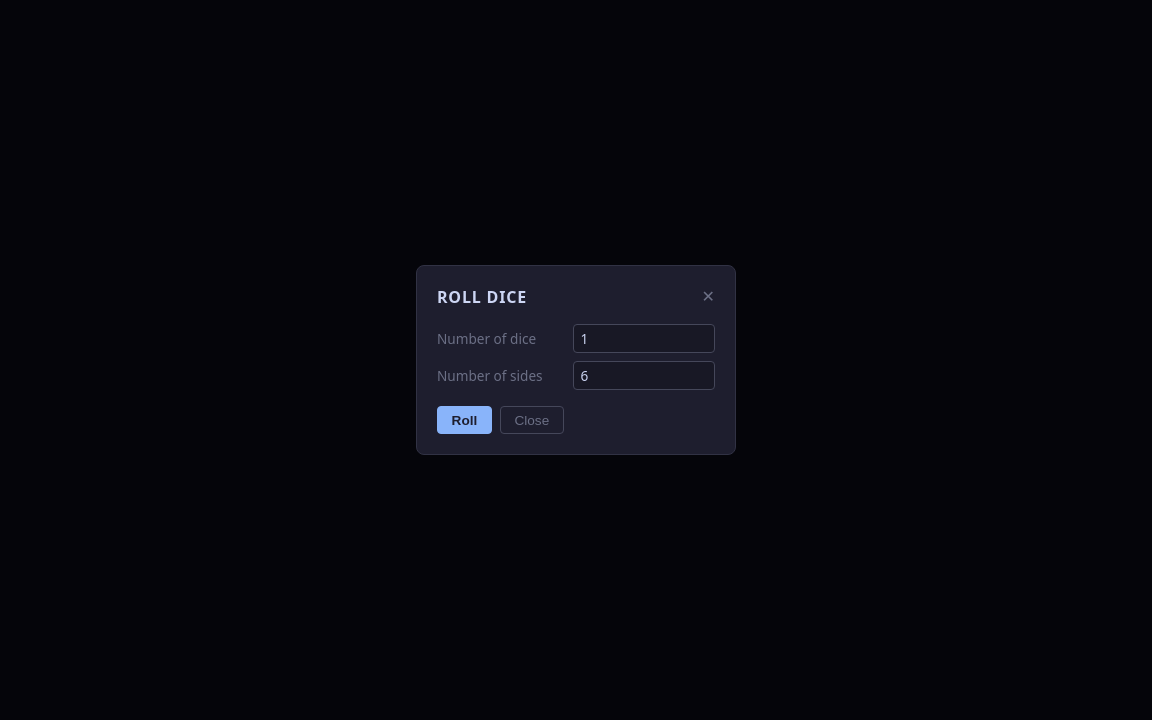
Test: DiceModal › rolls and tallies faces (deterministic via stubbed Math.random)
The image size is (1152, 720).
Replace the text in the number field next to "Number of dice" with "3" at (644, 338), box [573,324,715,353]
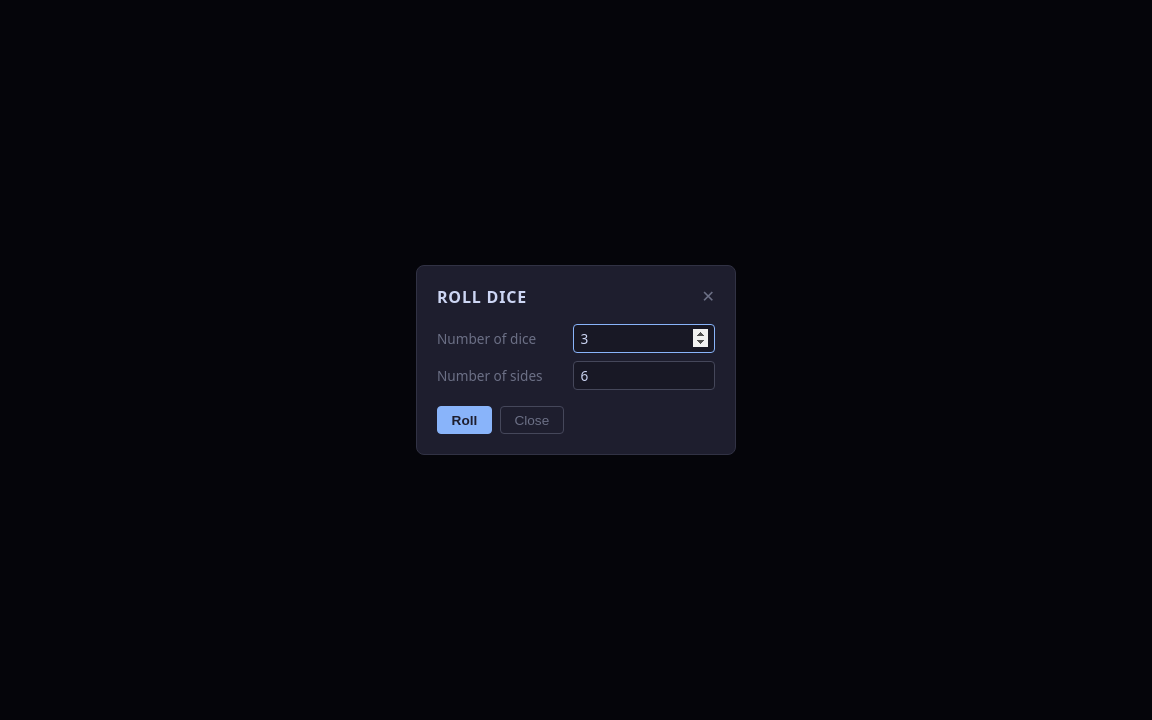
Click the button "Roll" at (464, 420), box [437,406,492,434]
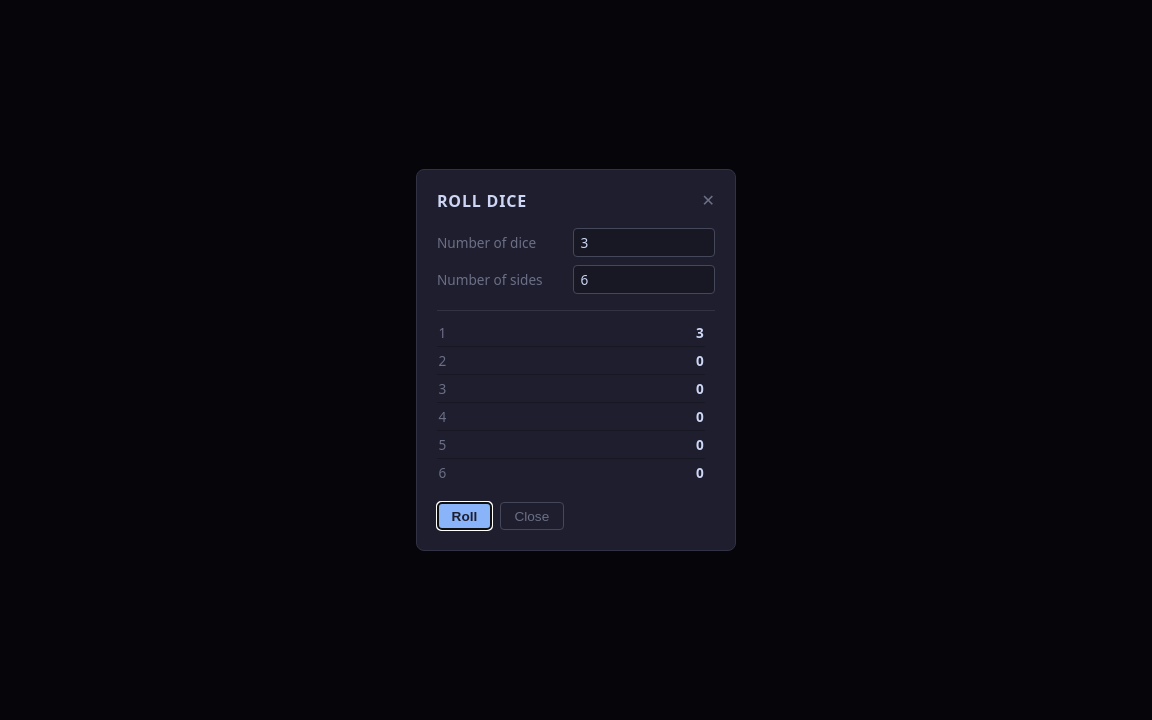
Now the text "1" shows "3", box [696,323,704,342]
